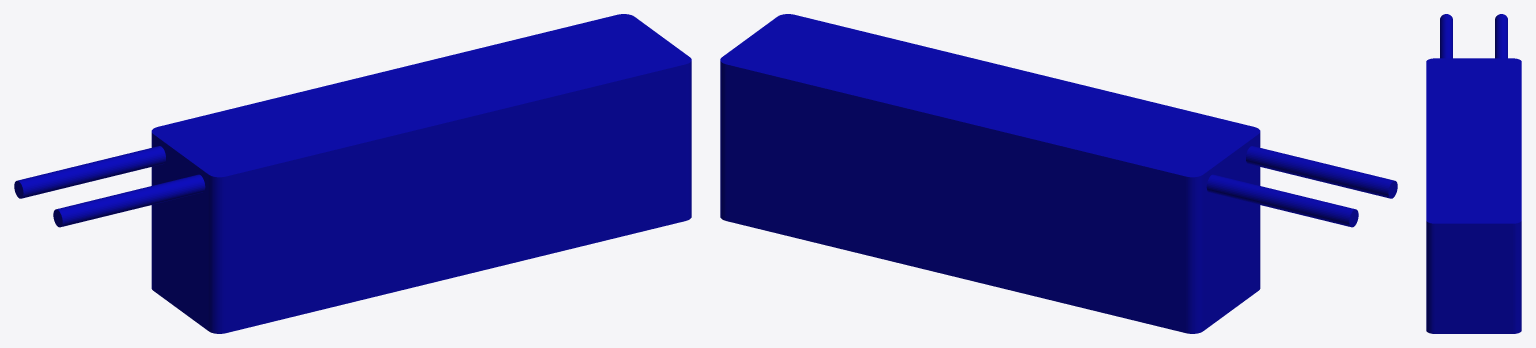
File: ZIPPY-3000-25C-6S.dae
3 views of the same model, side by side, from view 1: azimuth 30°, elevation 25°; view 2: azimuth 150°, elevation 25°; view 3: azimuth 270°, elevation 25° (orthographic). The views are drawn at different scales.
Parts seen in each view (by area): view 1: ZIPPY-3000-25C-6S; view 2: ZIPPY-3000-25C-6S; view 3: ZIPPY-3000-25C-6S.
Part boxes in pixels (x1,y1,x2,y2): ZIPPY-3000-25C-6S: (14,14,691,333); ZIPPY-3000-25C-6S: (720,14,1397,333); ZIPPY-3000-25C-6S: (1426,14,1521,333).
Size of the model in its own units: 0.175 by 0.033 by 0.042.
